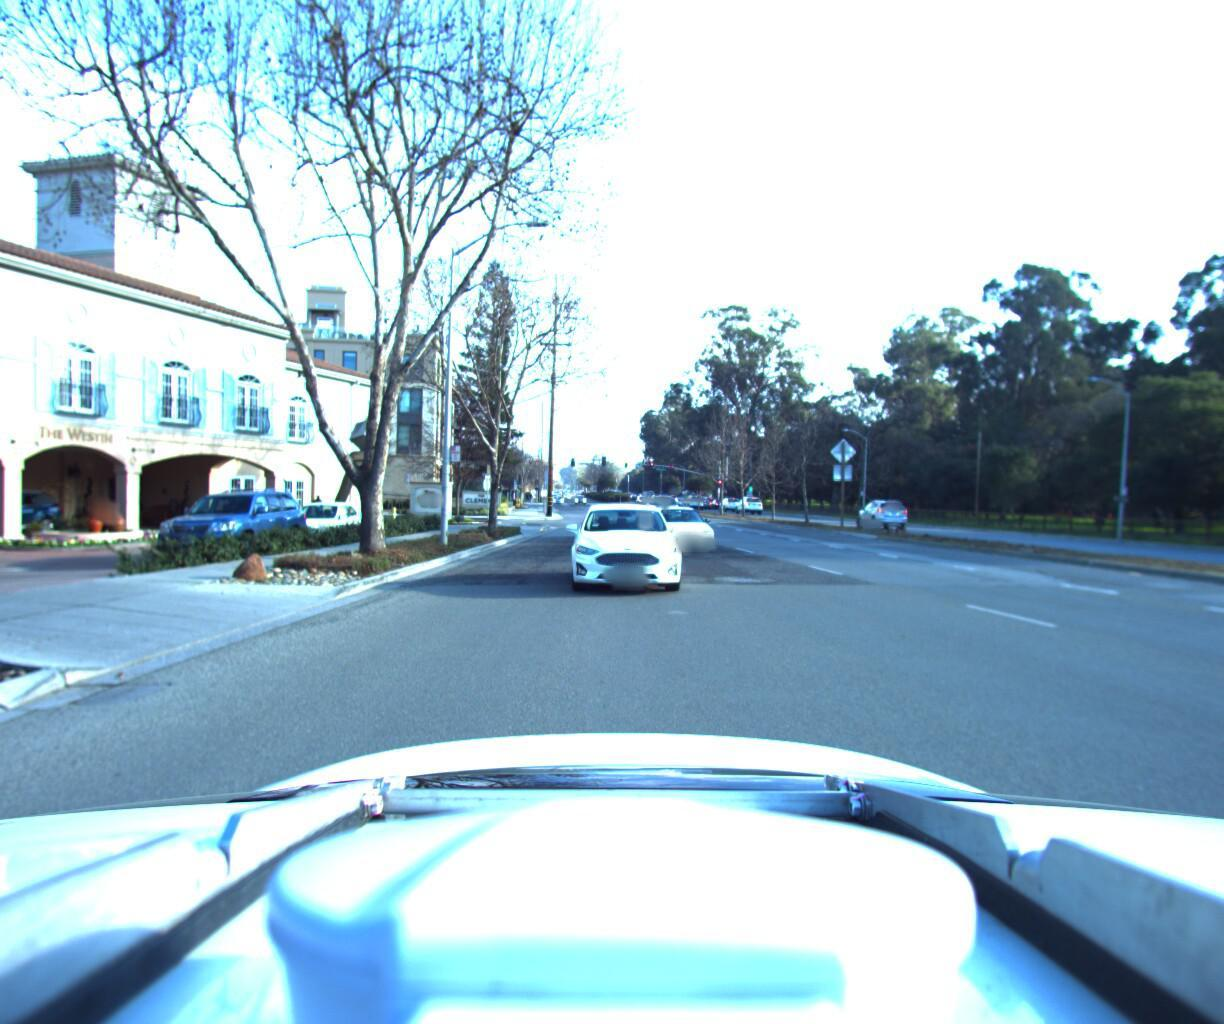car: (145, 479, 311, 569), (565, 494, 679, 598), (272, 494, 373, 546), (0, 484, 73, 547), (650, 498, 730, 553), (850, 497, 906, 528), (642, 488, 685, 520), (731, 490, 761, 509)
